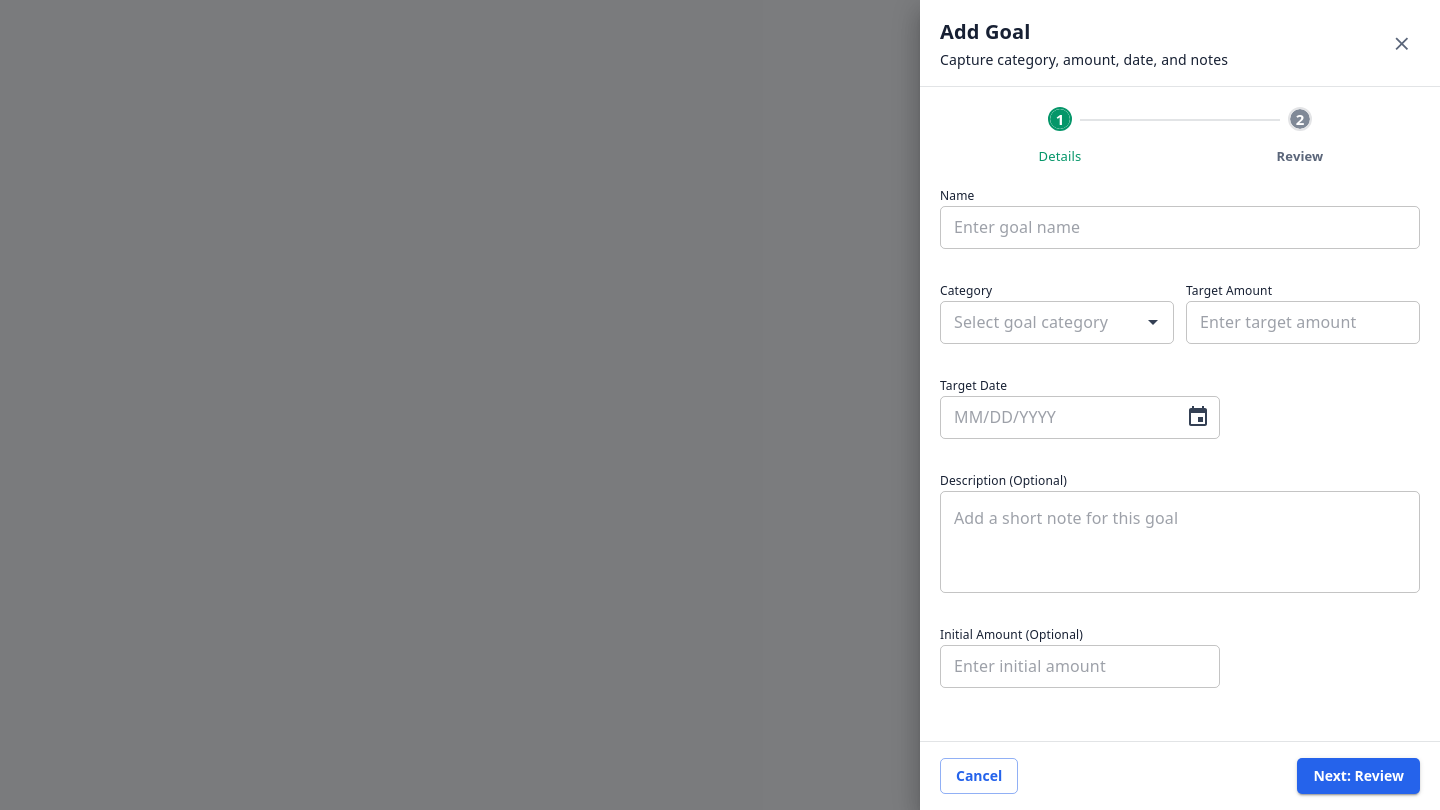
it: GoalFormDrawer › shows validation errors before moving to review
Click the button "Next: Review". click: point(1359, 776)
box: [1297,758,1420,794]
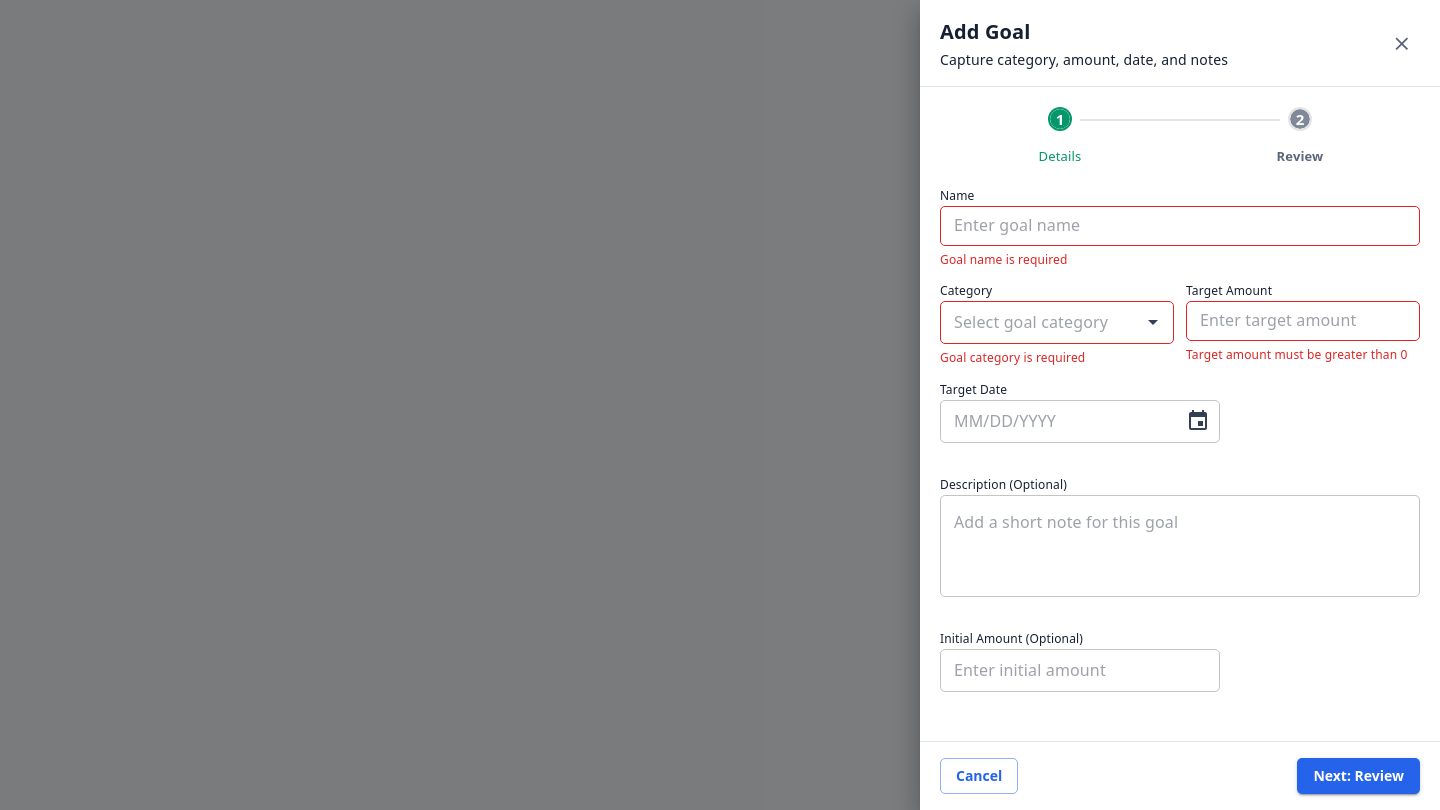
Expected: the text "Goal name is required" is shown, [940,251,1068,268]
Expected: the text "Goal category is required" is shown, [940,349,1085,366]
Expected: the text "Target amount must be greater than 0" is shown, [1186,341,1420,361]
